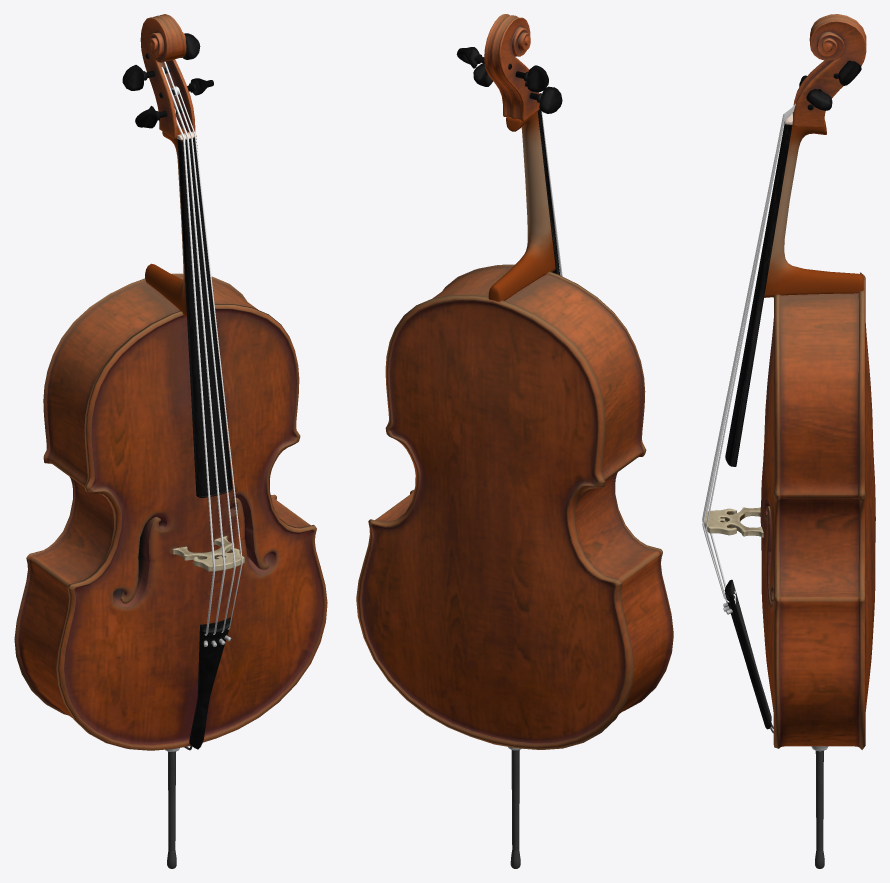
File: cello-ece053.glb
3 views of the same model, side by side, from view 1: azimuth 30°, elevation 25°; view 2: azimuth 150°, elevation 25°; view 3: azimuth 270°, elevation 25° (orthographic).
Visible parts, largest first — view 1: PropMesh; view 2: PropMesh; view 3: PropMesh.
Part boxes in pixels (bbox=[...]): PropMesh: bbox=[14, 14, 327, 868]; PropMesh: bbox=[356, 14, 673, 868]; PropMesh: bbox=[702, 14, 875, 868].
Size of the model in its own units: 0.4762 by 1.4 by 0.2598.
Materials: 2 (2 with a texture image).
